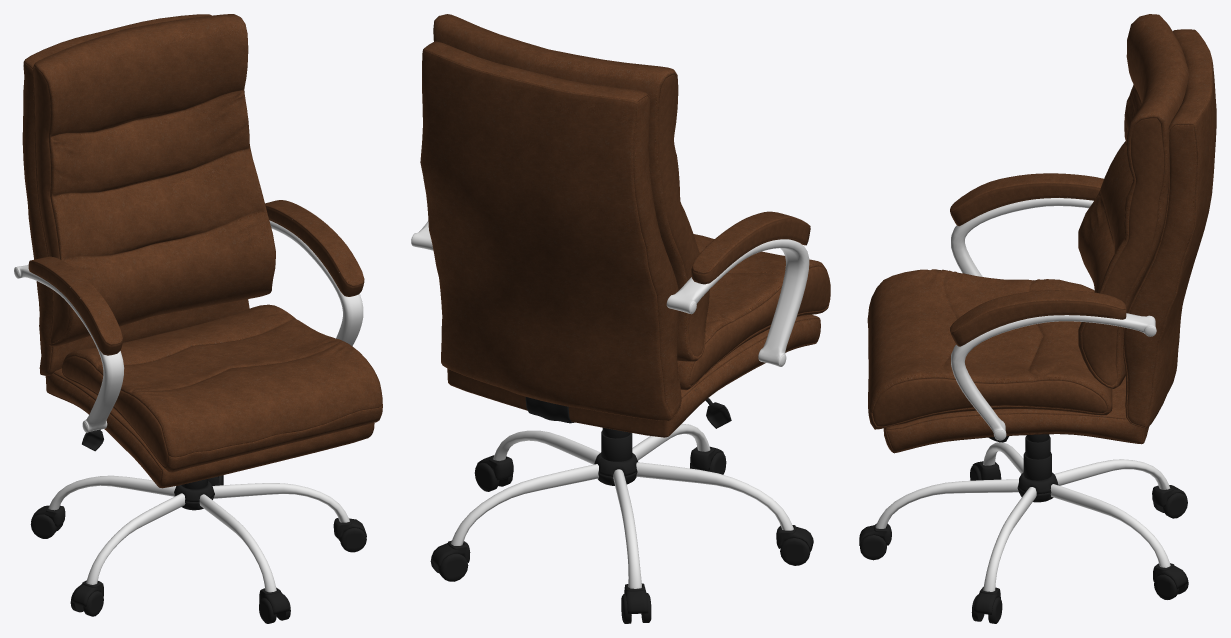
Rendered from Office_Chair_1.glb.
The picture shows the model from 3 angles, left to right: view 1: azimuth 30°, elevation 25°; view 2: azimuth 150°, elevation 25°; view 3: azimuth 270°, elevation 25°; orthographic projection. The views are drawn at different scales.
Parts seen in each view (by area): view 1: Office Chair; view 2: Office Chair; view 3: Office Chair.
Boxes of the visible parts, bbox=[...] form: Office Chair: bbox=[14, 14, 382, 623]; Office Chair: bbox=[411, 14, 830, 623]; Office Chair: bbox=[859, 14, 1216, 623].
Bounding box in the file's own units: 0.8549 × 1.34 × 0.8829.
4 materials, 1 textured.
